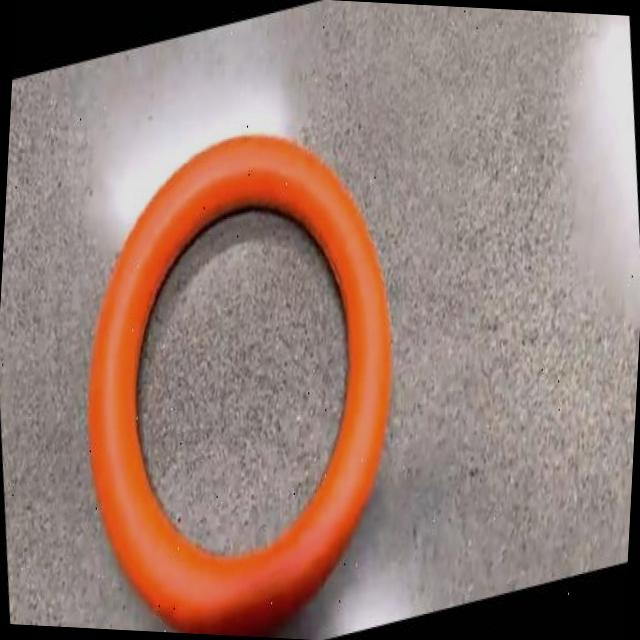note: (89, 134, 390, 637)
